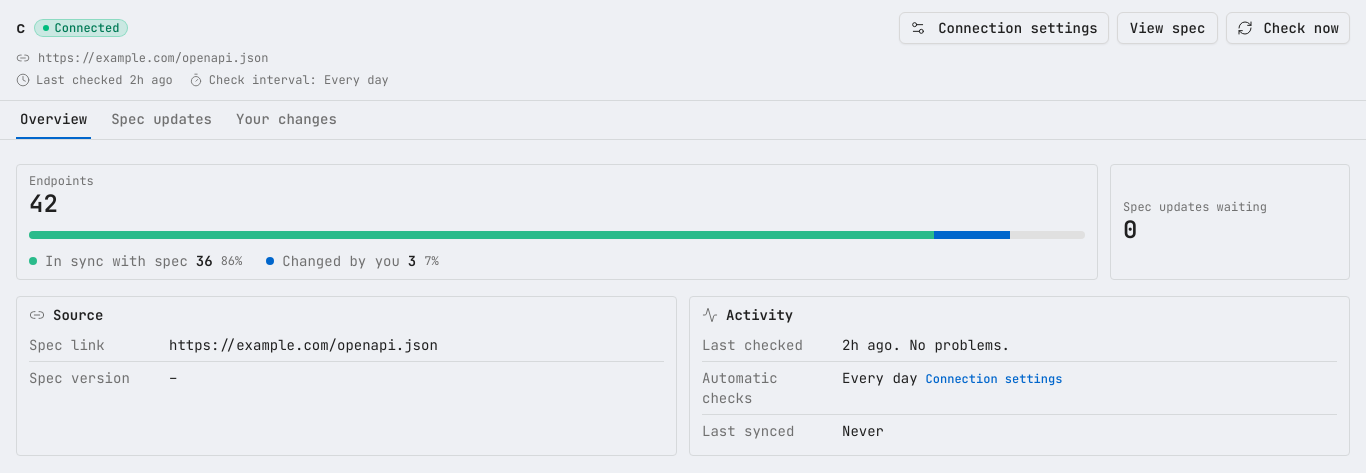
Test case: OpenApiSyncTab › trusts the plan when it says nothing is pending
Expected: the text "Spec updates waiting" is shown, top-left (1123, 199), bottom-right (1267, 215)
Step 1. Click the tab "Spec updates" → (162, 122), box top-left (107, 105), bottom-right (216, 139)
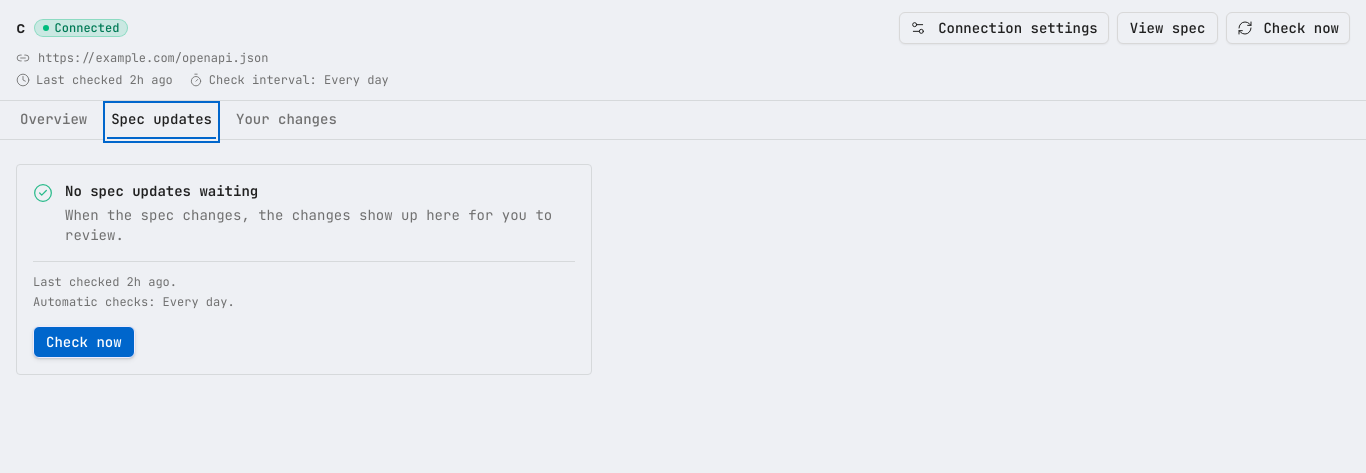
Result: the heading "No spec updates waiting" is shown at top-left (65, 182), bottom-right (258, 200)
